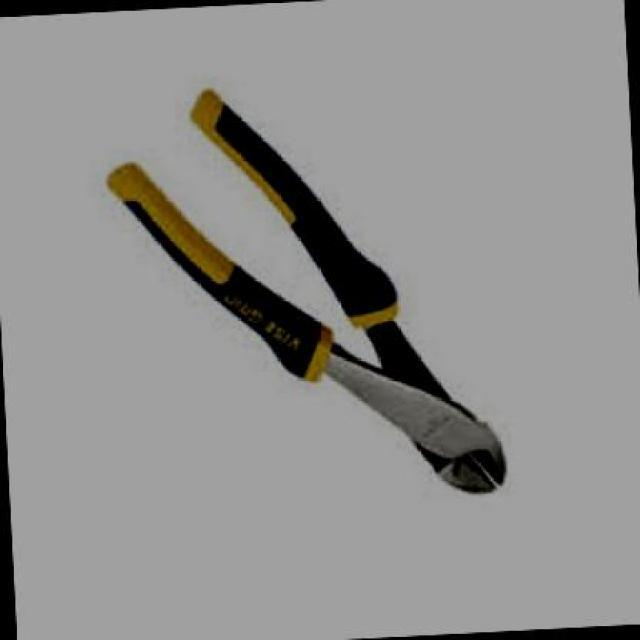pliers: (89, 60, 520, 529)
